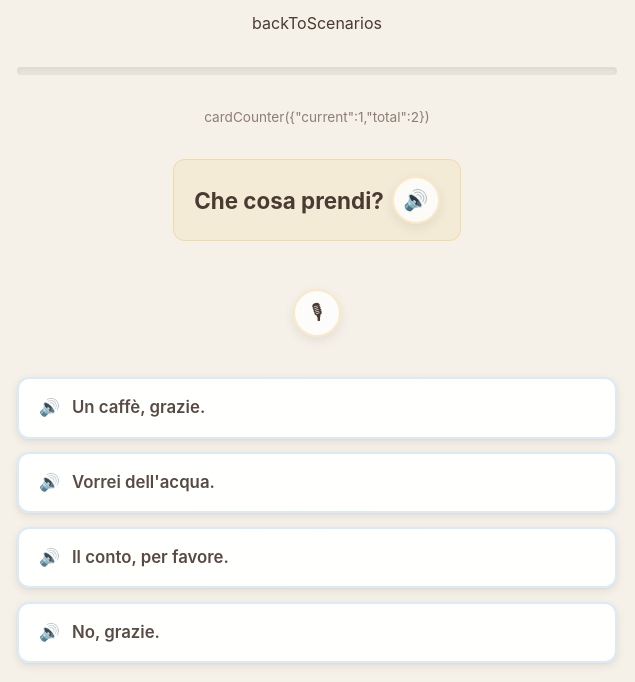
Test: QAStudySession › auto-advances to next card after 600ms delay
Expected: the text "Che cosa prendi?" is shown, [194,184,384,217]
Click the button "🔊 Un caffè, grazie." at (139, 407), box [17,377,617,439]
Wait 600 ms
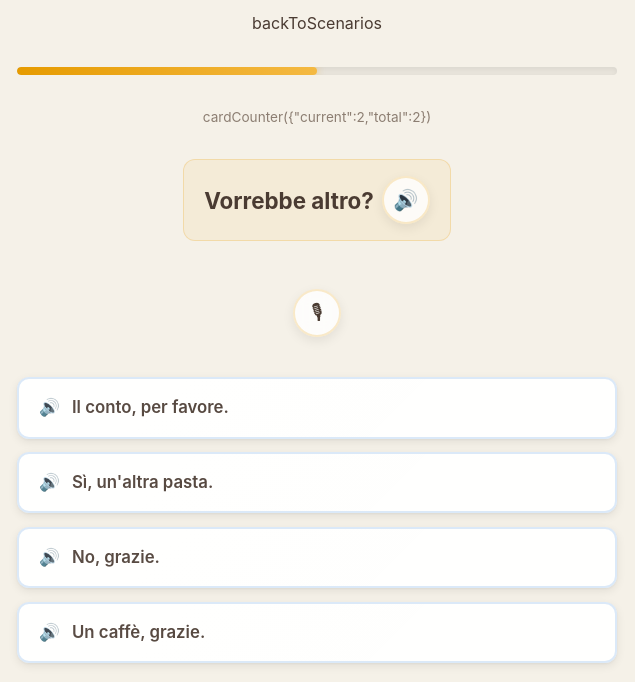
Result: the text "Vorrebbe altro?" is shown at [204,184,374,217]
